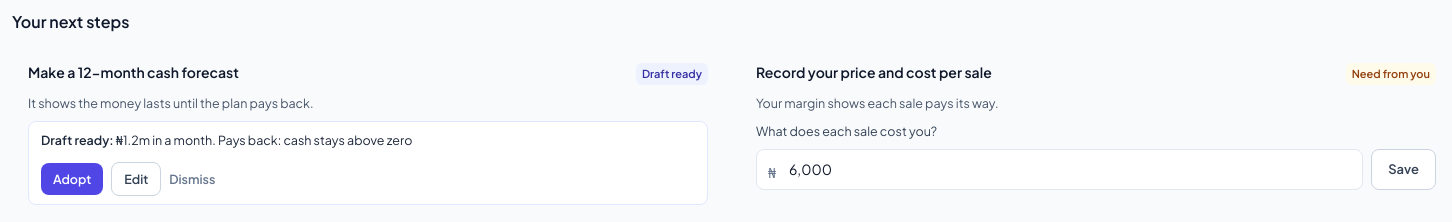
Test: applies an Adopt straight away and says the new score
The image size is (1452, 222).
Expected: the element named "₦1.2m in a month. Pays back: cash stays above zero" reads "Draft ready: ₦1.2m in a month. Pays back: cash stays above zero", 41,132 -> 412,148
Click the button "Adopt": (72,179) 41,163 -> 103,195
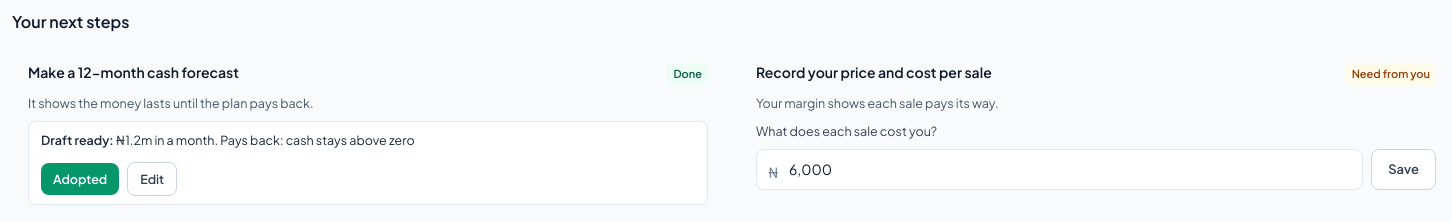
Expected: the field labelled "What does each sale cost you?" holds "6,000", 756,149 -> 1363,190
Expected: the text "Done" is shown, 668,63 -> 708,85
